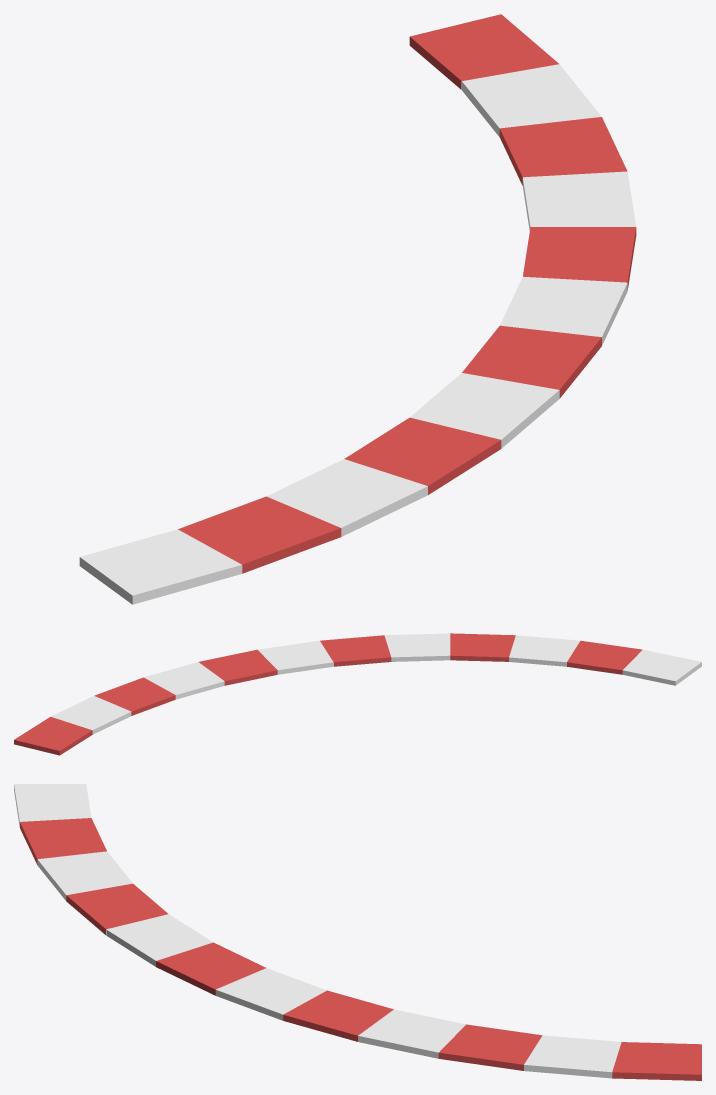
Rendered from road-corner-larger-border-inner.glb.
The picture shows the model from 3 angles, top to bottom: view 1: azimuth 30°, elevation 25°; view 2: azimuth 150°, elevation 25°; view 3: azimuth 270°, elevation 25°; orthographic projection. The views are drawn at different scales.
Visible parts, largest first — view 1: roadCornerLargerBorderInner; view 2: roadCornerLargerBorderInner; view 3: roadCornerLargerBorderInner.
Part boxes in pixels (x1,y1,x2,y2): roadCornerLargerBorderInner: [79, 14, 636, 604]; roadCornerLargerBorderInner: [14, 633, 701, 755]; roadCornerLargerBorderInner: [14, 784, 701, 1080].
Size of the model in its own units: 2 by 0.02 by 2.
